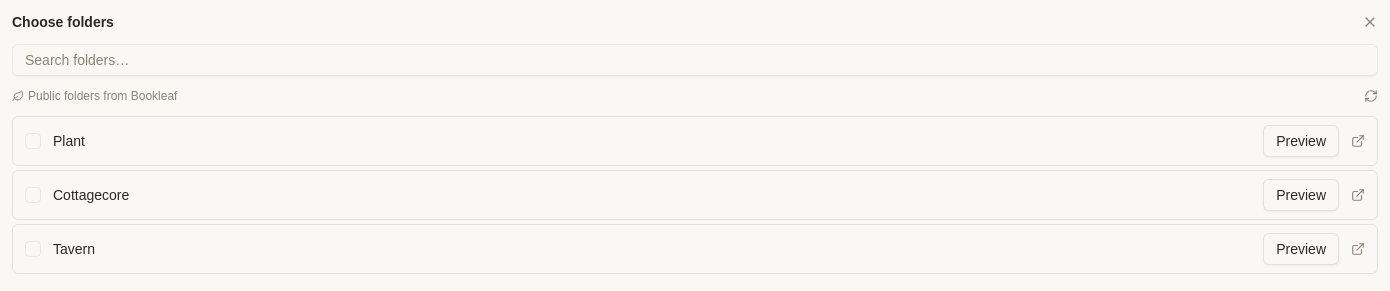
Test: ChooseFoldersPanel › shows all folders again when search is cleared
In the field with placeholder "Search folders…": [695, 60] box [12,44,1378,76], type "plant"
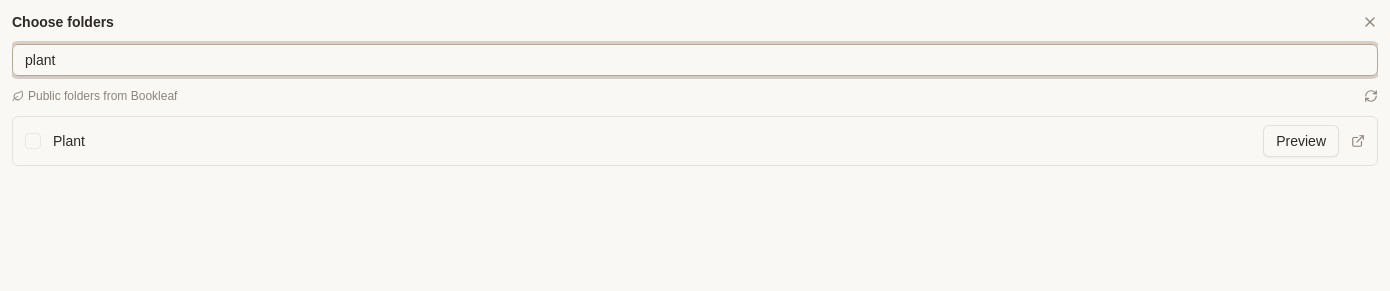
Clear the field with placeholder "Search folders…": [695, 60] box [12,44,1378,76]
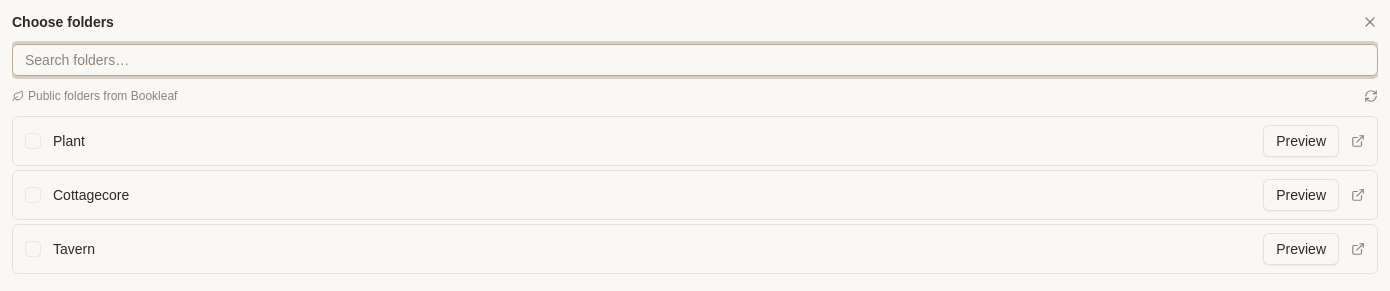
Expected: the checkbox "Plant" is shown, [53,133,85,149]
Expected: the checkbox "Cottagecore" is shown, [53,187,129,203]
Expected: the checkbox "Tavern" is shown, [53,241,95,257]
